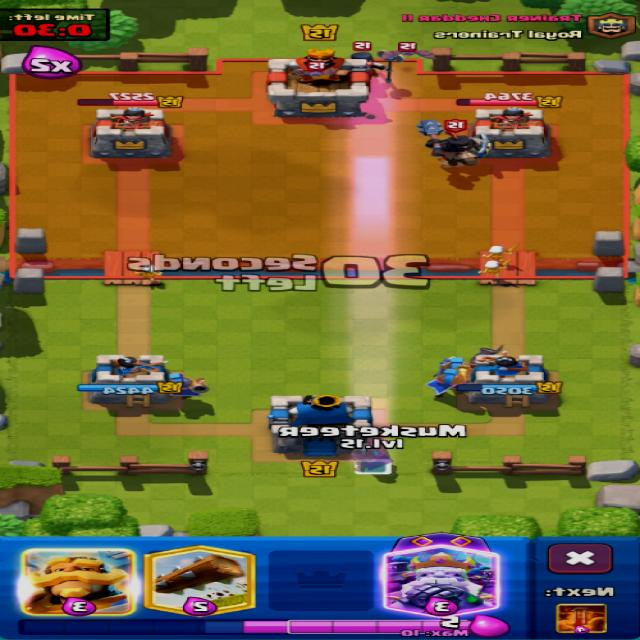Enemy-Bat: (388, 43, 435, 59)
Enemy-DarkPrince-Shield-Charge: (417, 121, 488, 167)
Enemy-KingTower: (269, 49, 370, 116)
Enemy-NightWitch: (353, 50, 403, 83)
Enemy-PrincessTower: (91, 107, 172, 158), (472, 106, 550, 158)
